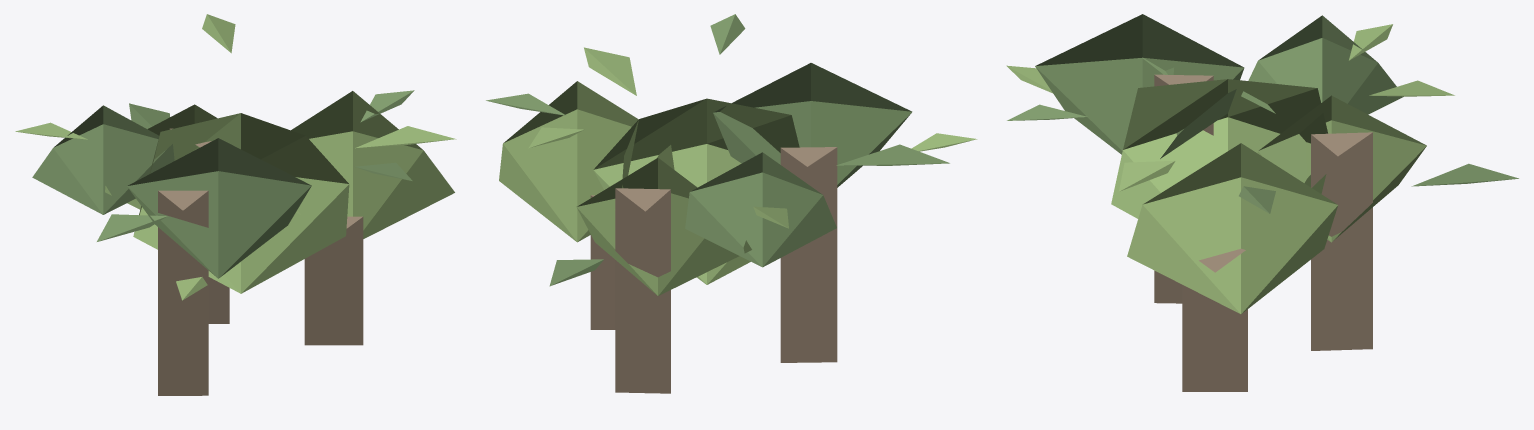
Rendered from hua.ju@subadult__bloom.glb.
The picture shows the model from 3 angles, left to right: view 1: azimuth 30°, elevation 25°; view 2: azimuth 150°, elevation 25°; view 3: azimuth 270°, elevation 25°; orthographic projection. The views are drawn at different scales.
Visible parts, largest first — view 1: hua.ju@subadult__bloom; view 2: hua.ju@subadult__bloom; view 3: hua.ju@subadult__bloom.
Boxes of the visible parts, box(x1,y1,x2,y2) form: hua.ju@subadult__bloom: box(15, 14, 456, 395); hua.ju@subadult__bloom: box(486, 14, 977, 393); hua.ju@subadult__bloom: box(1006, 14, 1518, 391).
Size of the model in its own units: 0.6846 by 0.471 by 0.718.
